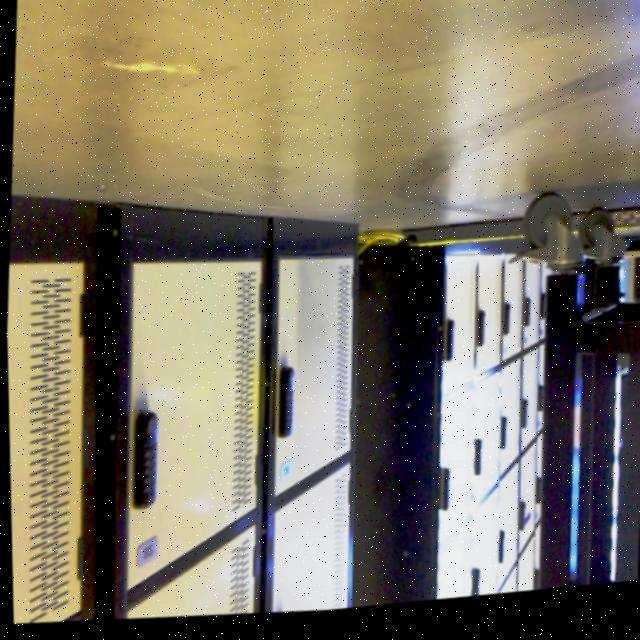greenpringles: (576, 0, 640, 596)
